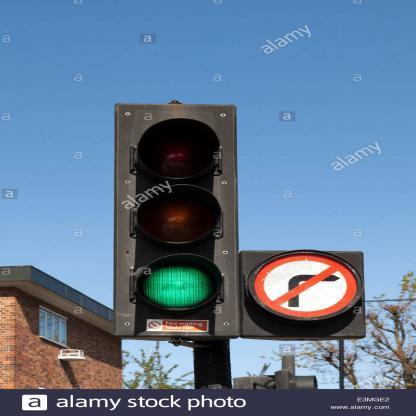Green Light: (114, 103, 238, 335)
